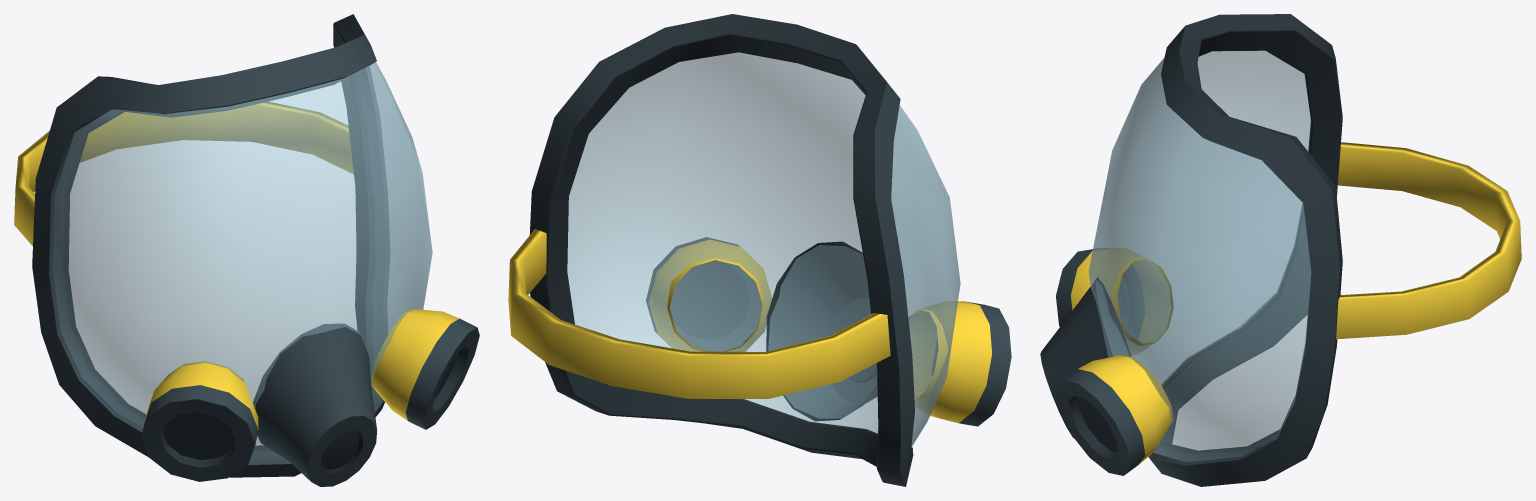
The model's file is anti poison mask.fbx.
3 renders of one model, left to right at view 1: azimuth 30°, elevation 25°; view 2: azimuth 150°, elevation 25°; view 3: azimuth 270°, elevation 25°, orthographic. The views are drawn at different scales.
Visible parts, largest first — view 1: anti_poison_mask; view 2: anti_poison_mask; view 3: anti_poison_mask.
Part boxes in pixels (bbox=[...]): anti_poison_mask: bbox=[14, 14, 479, 486]; anti_poison_mask: bbox=[508, 14, 1011, 486]; anti_poison_mask: bbox=[1040, 14, 1521, 486].
Size of the model in its own units: 121 by 137 by 148.
